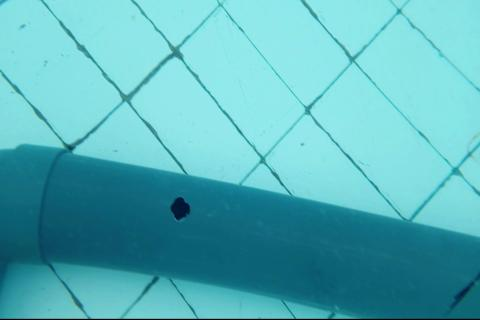kebocoran: (169, 194, 192, 222)
keretakan: (446, 267, 479, 314)
